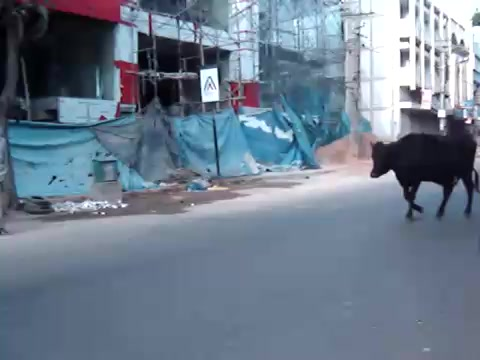cow: (370, 135, 480, 222)
